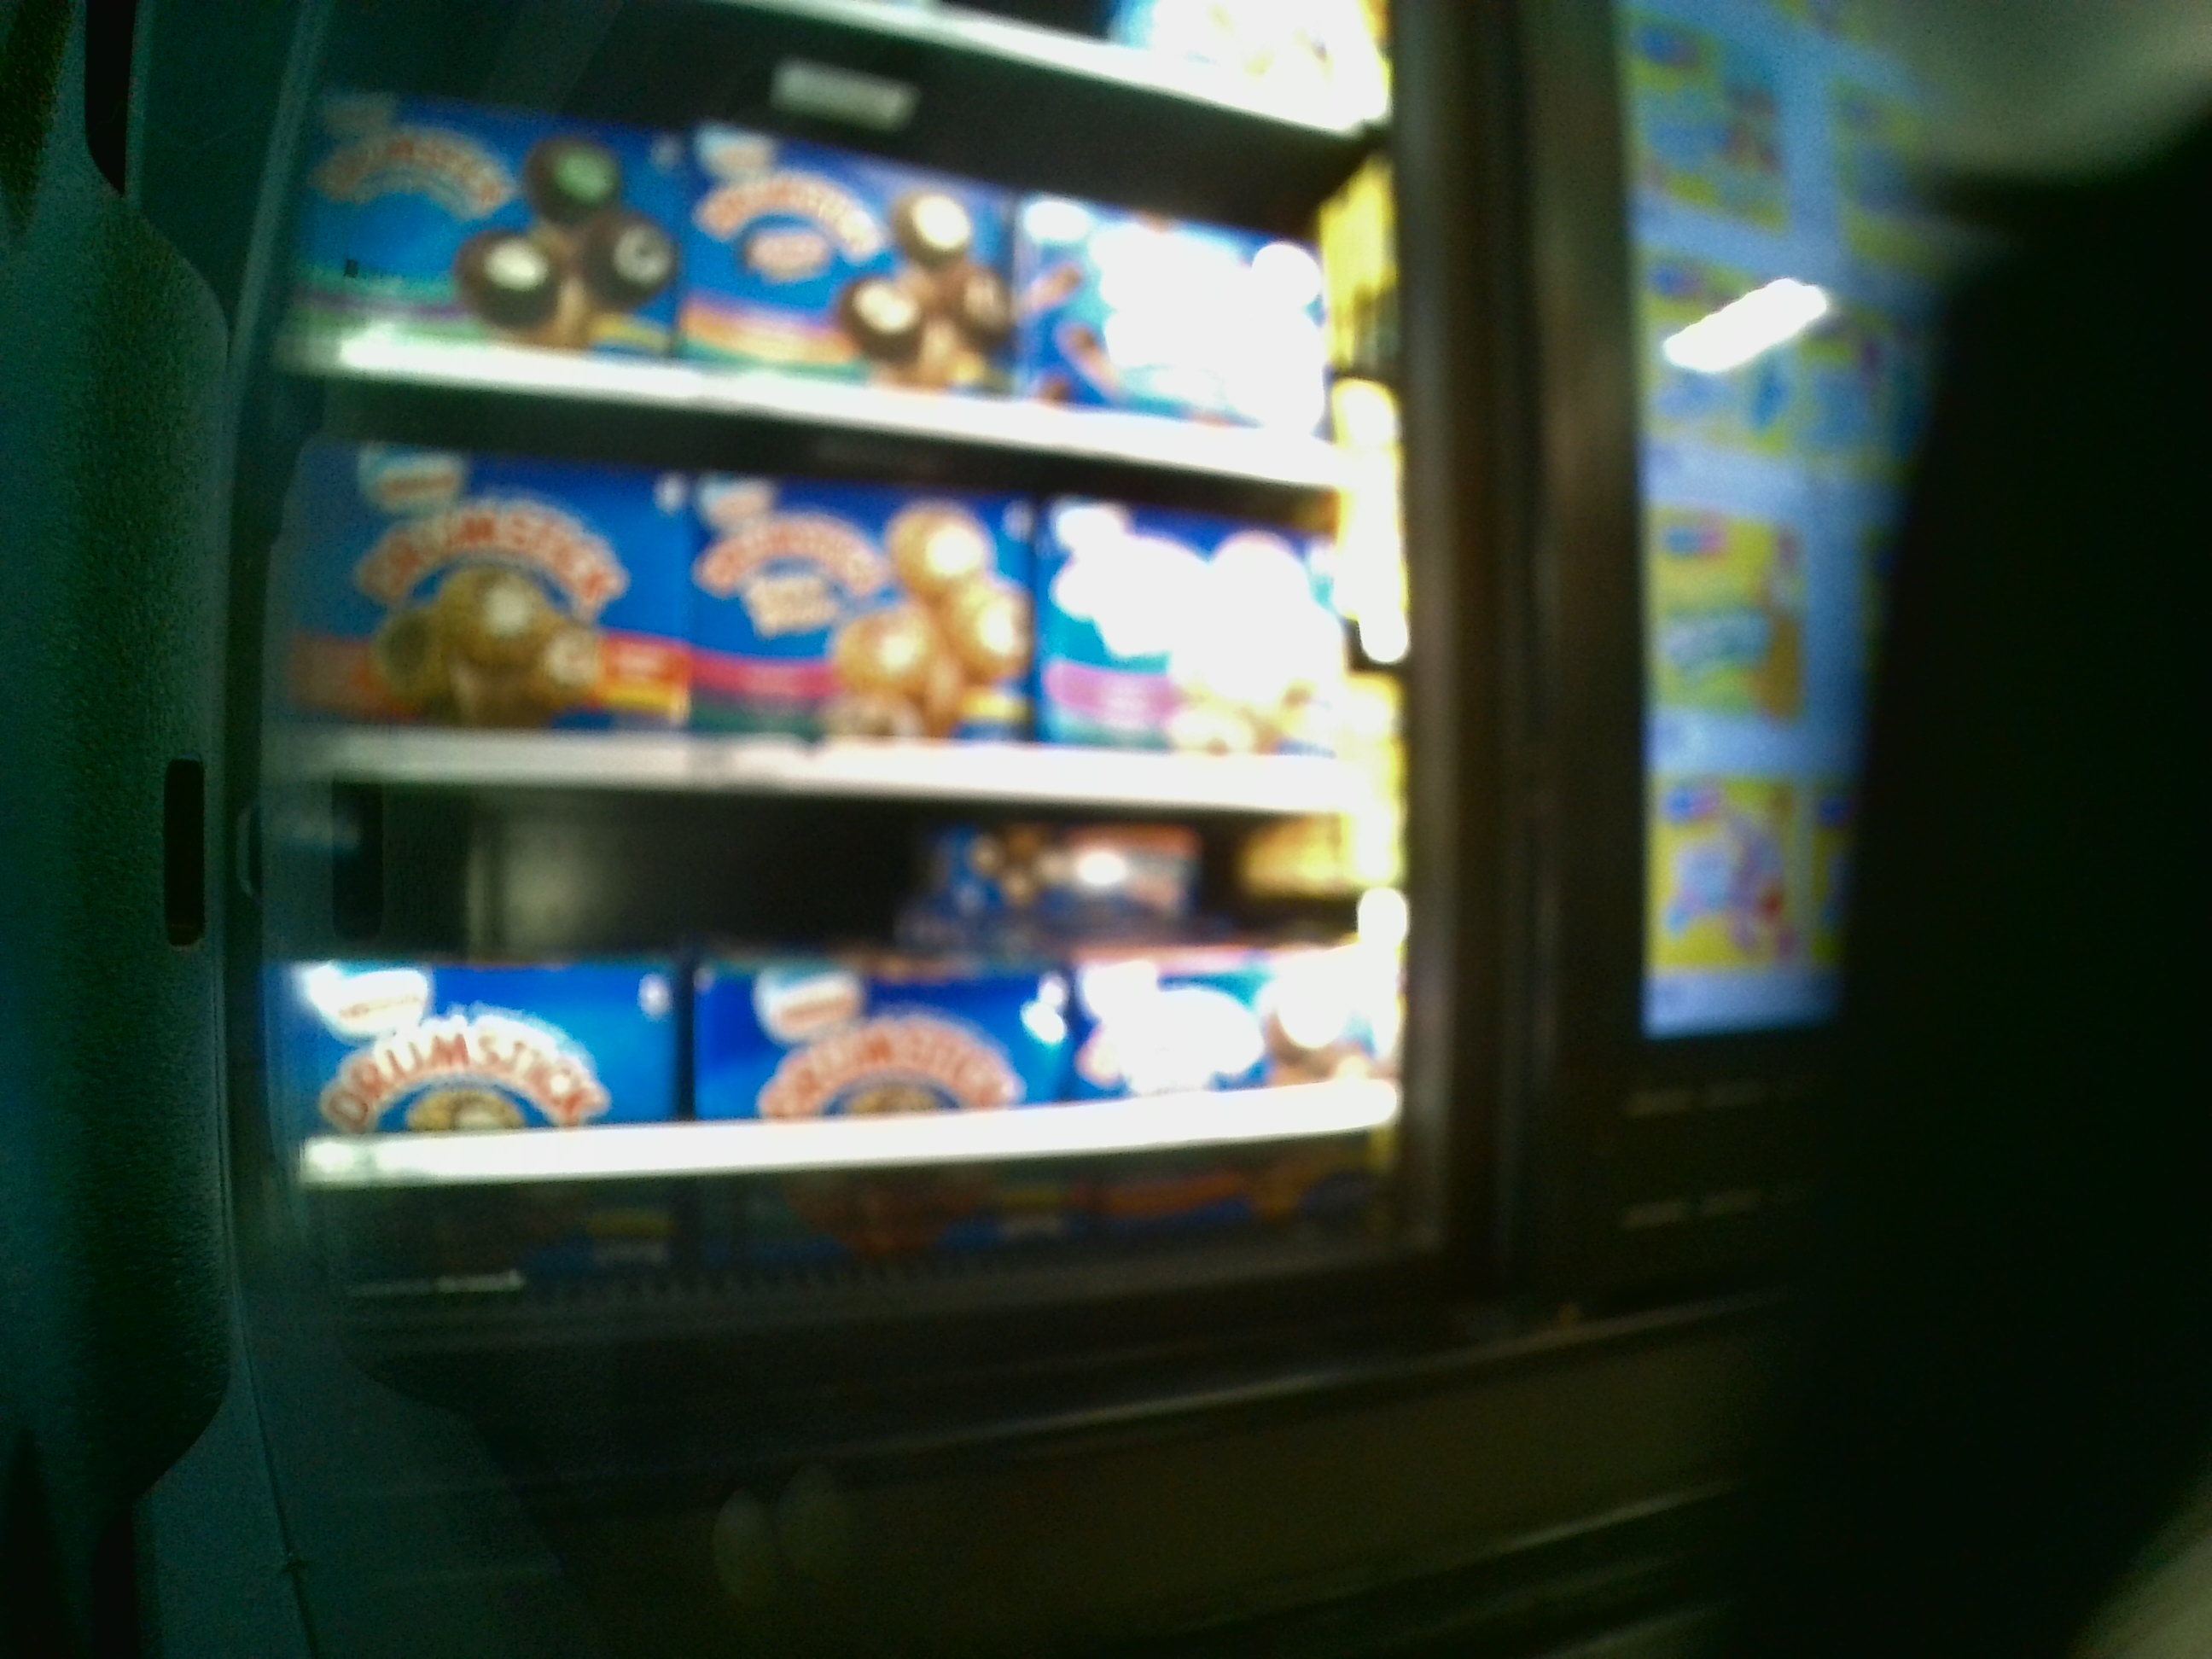shelf: (287, 774, 1369, 1243), (279, 437, 1371, 809)
